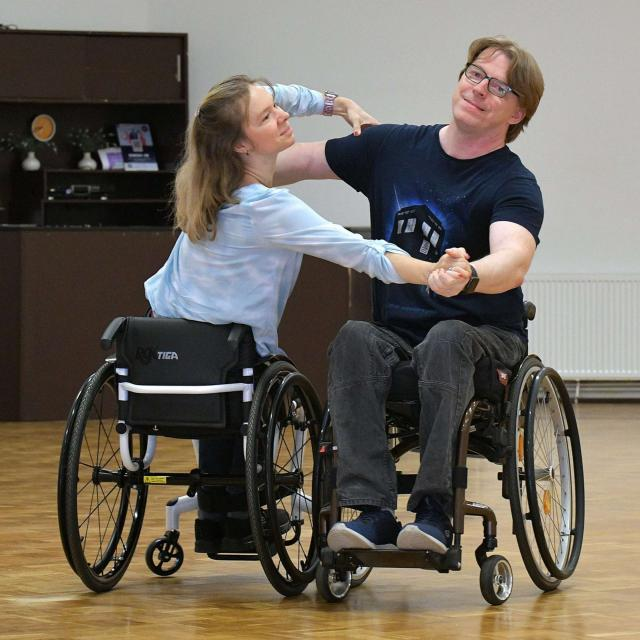wheelchairs: (314, 299, 602, 621), (51, 314, 309, 618)
